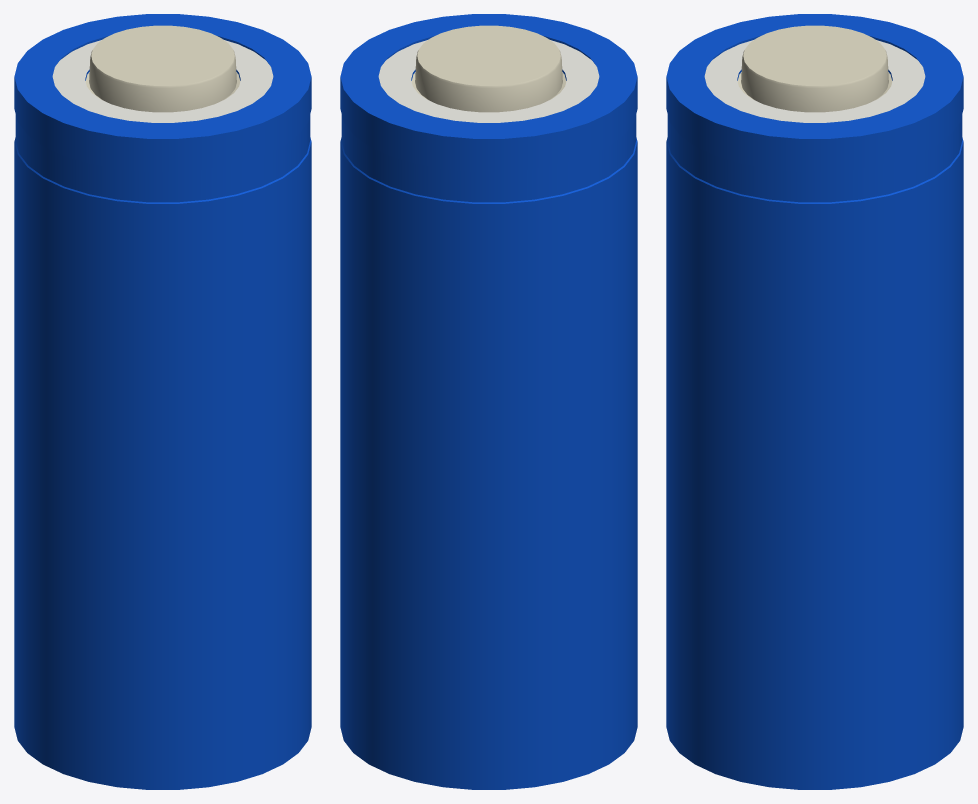
File: modelm.glb
3 views of the same model, side by side, from view 1: azimuth 30°, elevation 25°; view 2: azimuth 150°, elevation 25°; view 3: azimuth 270°, elevation 25° (orthographic).
Parts seen in each view (by area): view 1: model; view 2: model; view 3: model.
Boxes of the visible parts, x1,y1,x2,y2 form: model: (14, 14, 311, 789); model: (340, 14, 637, 789); model: (666, 14, 963, 789).
Bounding box in the file's own units: 0.6929 × 1.76 × 0.6968.
